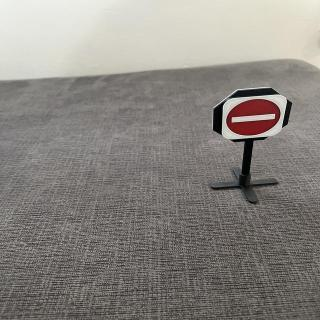sign_noentry: (221, 94, 289, 142)
